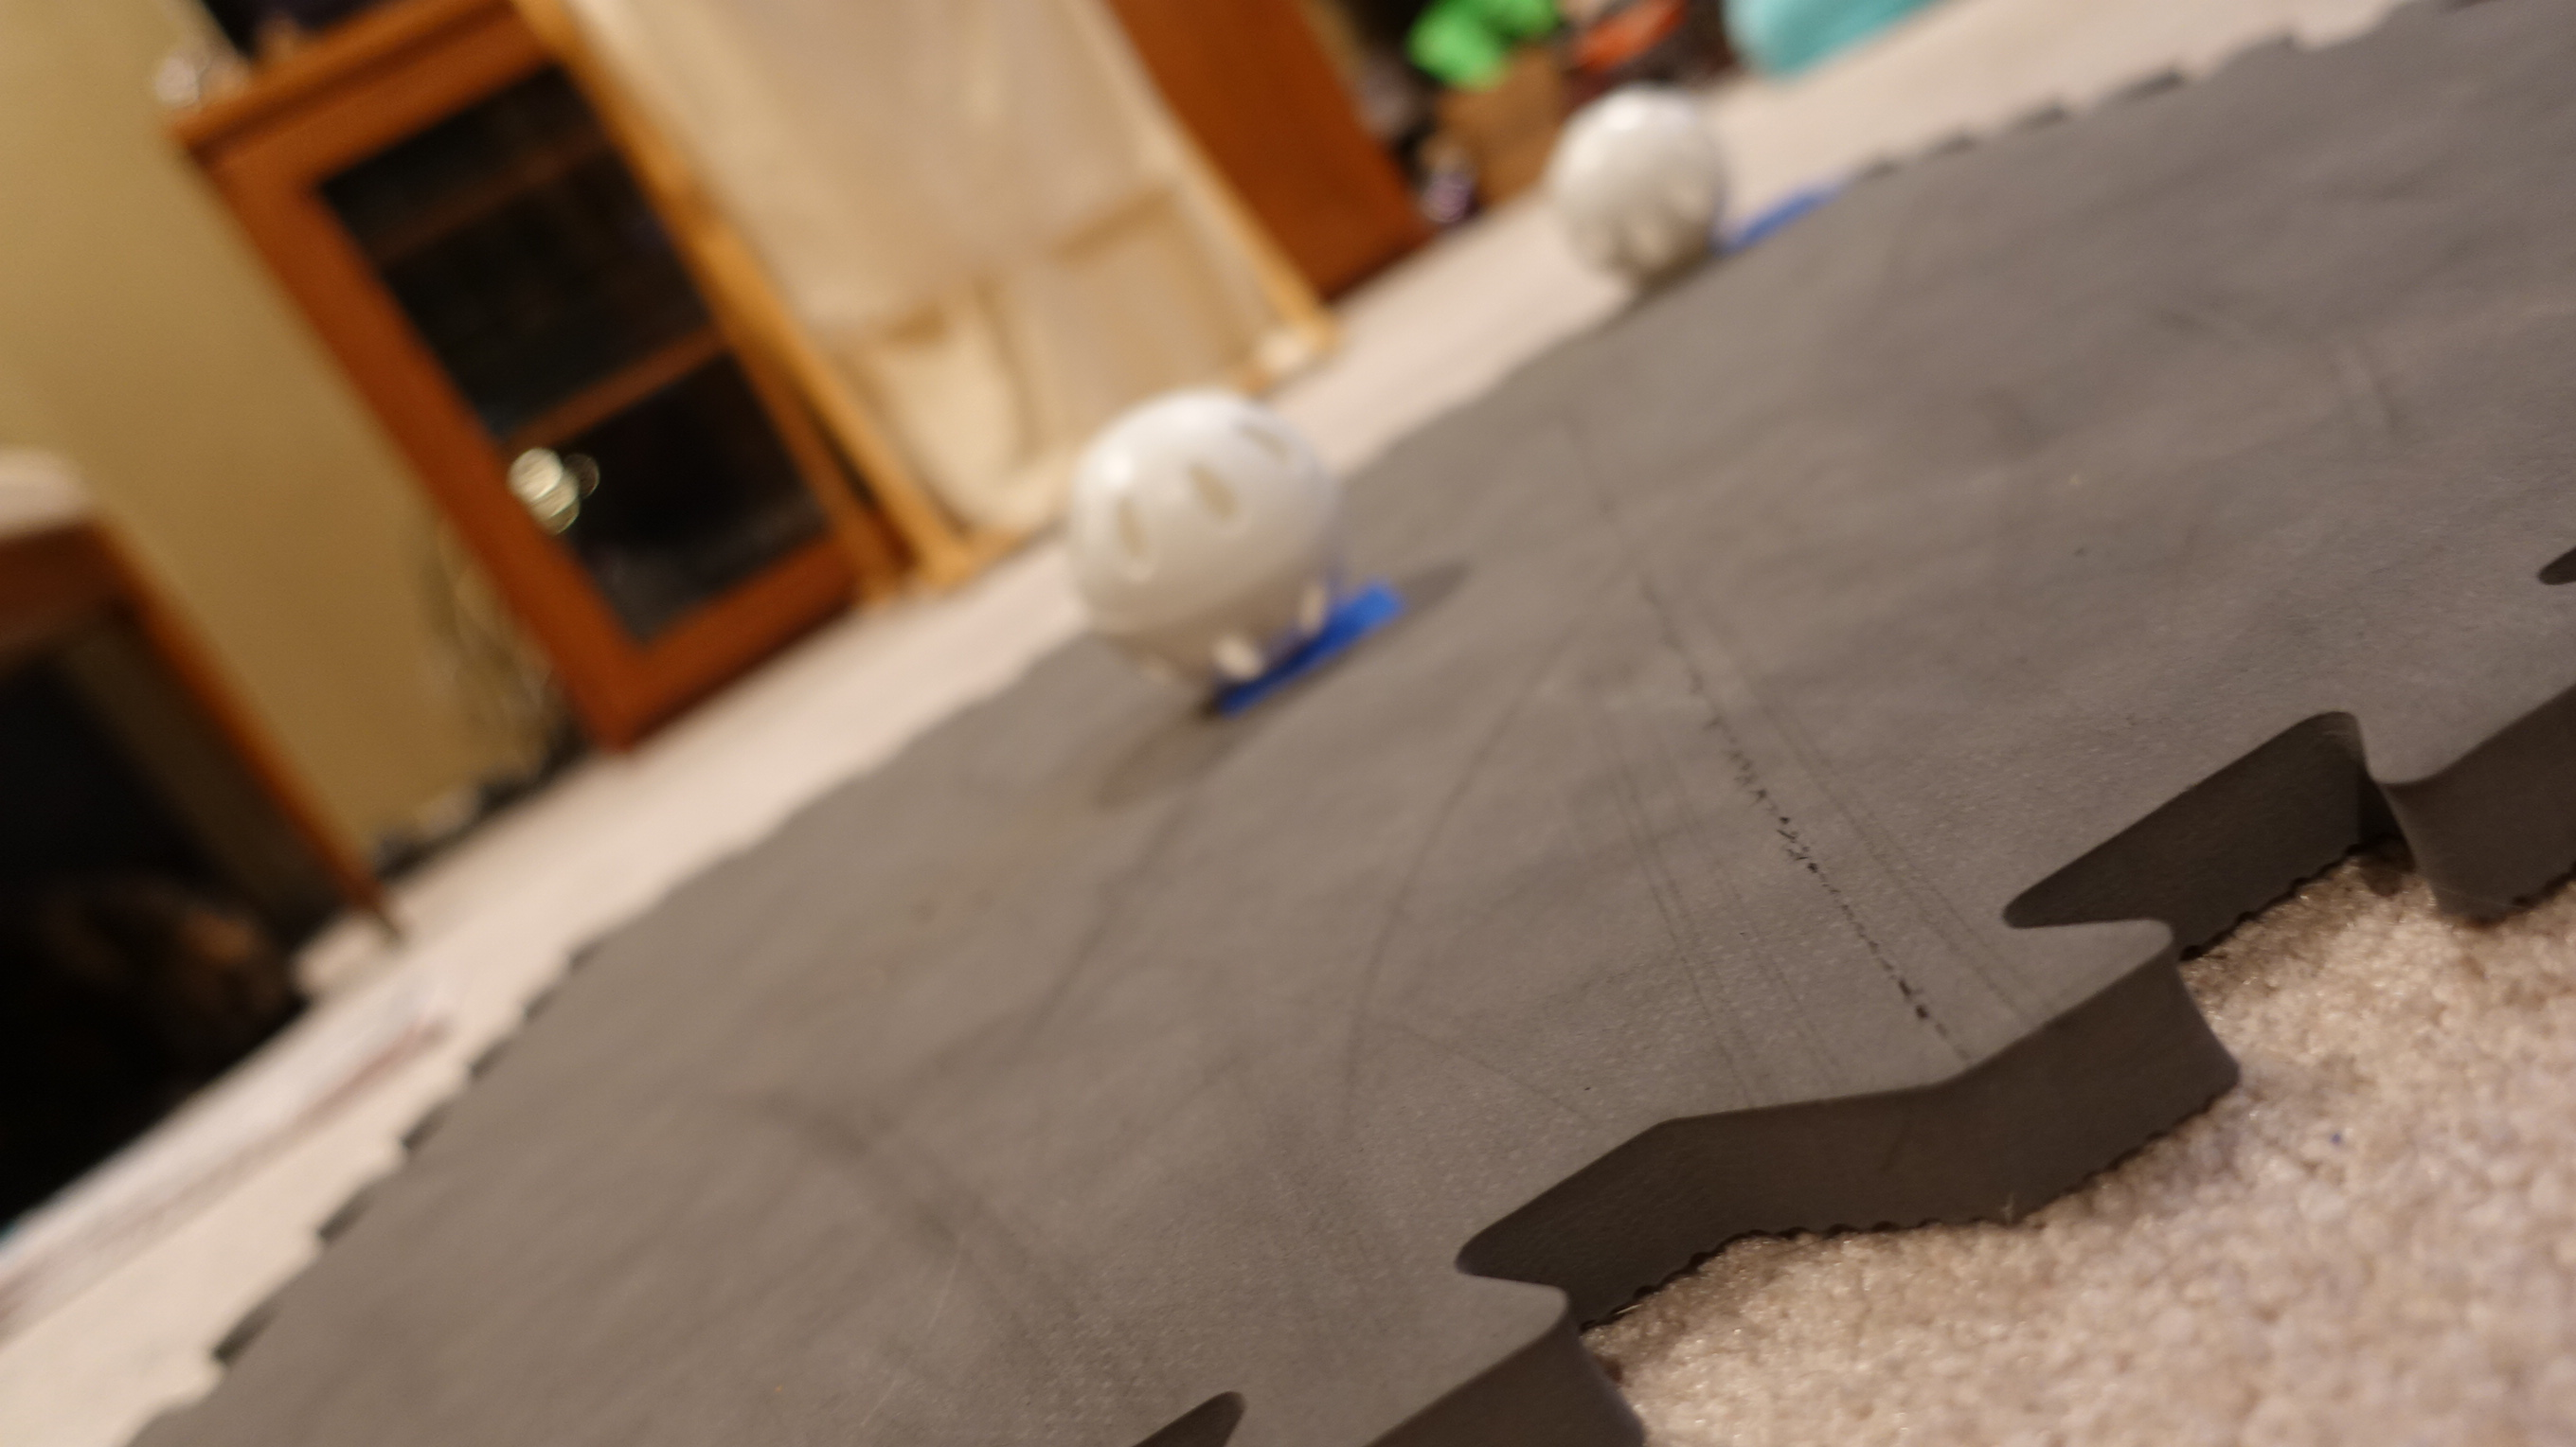silver: (1058, 387, 1353, 699), (1536, 90, 1743, 285)
